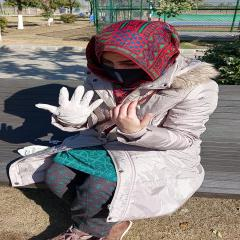gloved: (38, 85, 104, 122)
not-gloved: (108, 100, 151, 132)
